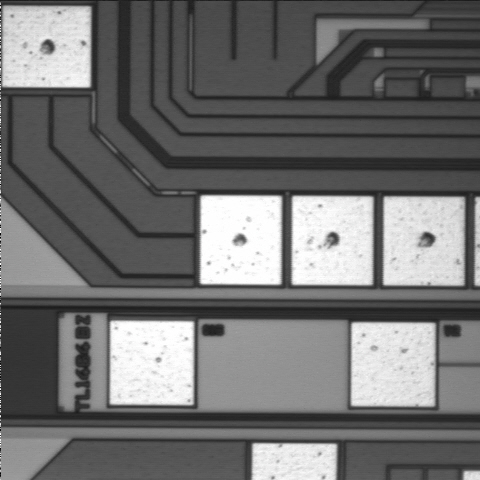pad: (200, 195, 282, 285), (2, 6, 91, 87), (292, 196, 373, 285), (383, 197, 464, 285), (110, 321, 194, 405), (351, 323, 435, 406)
